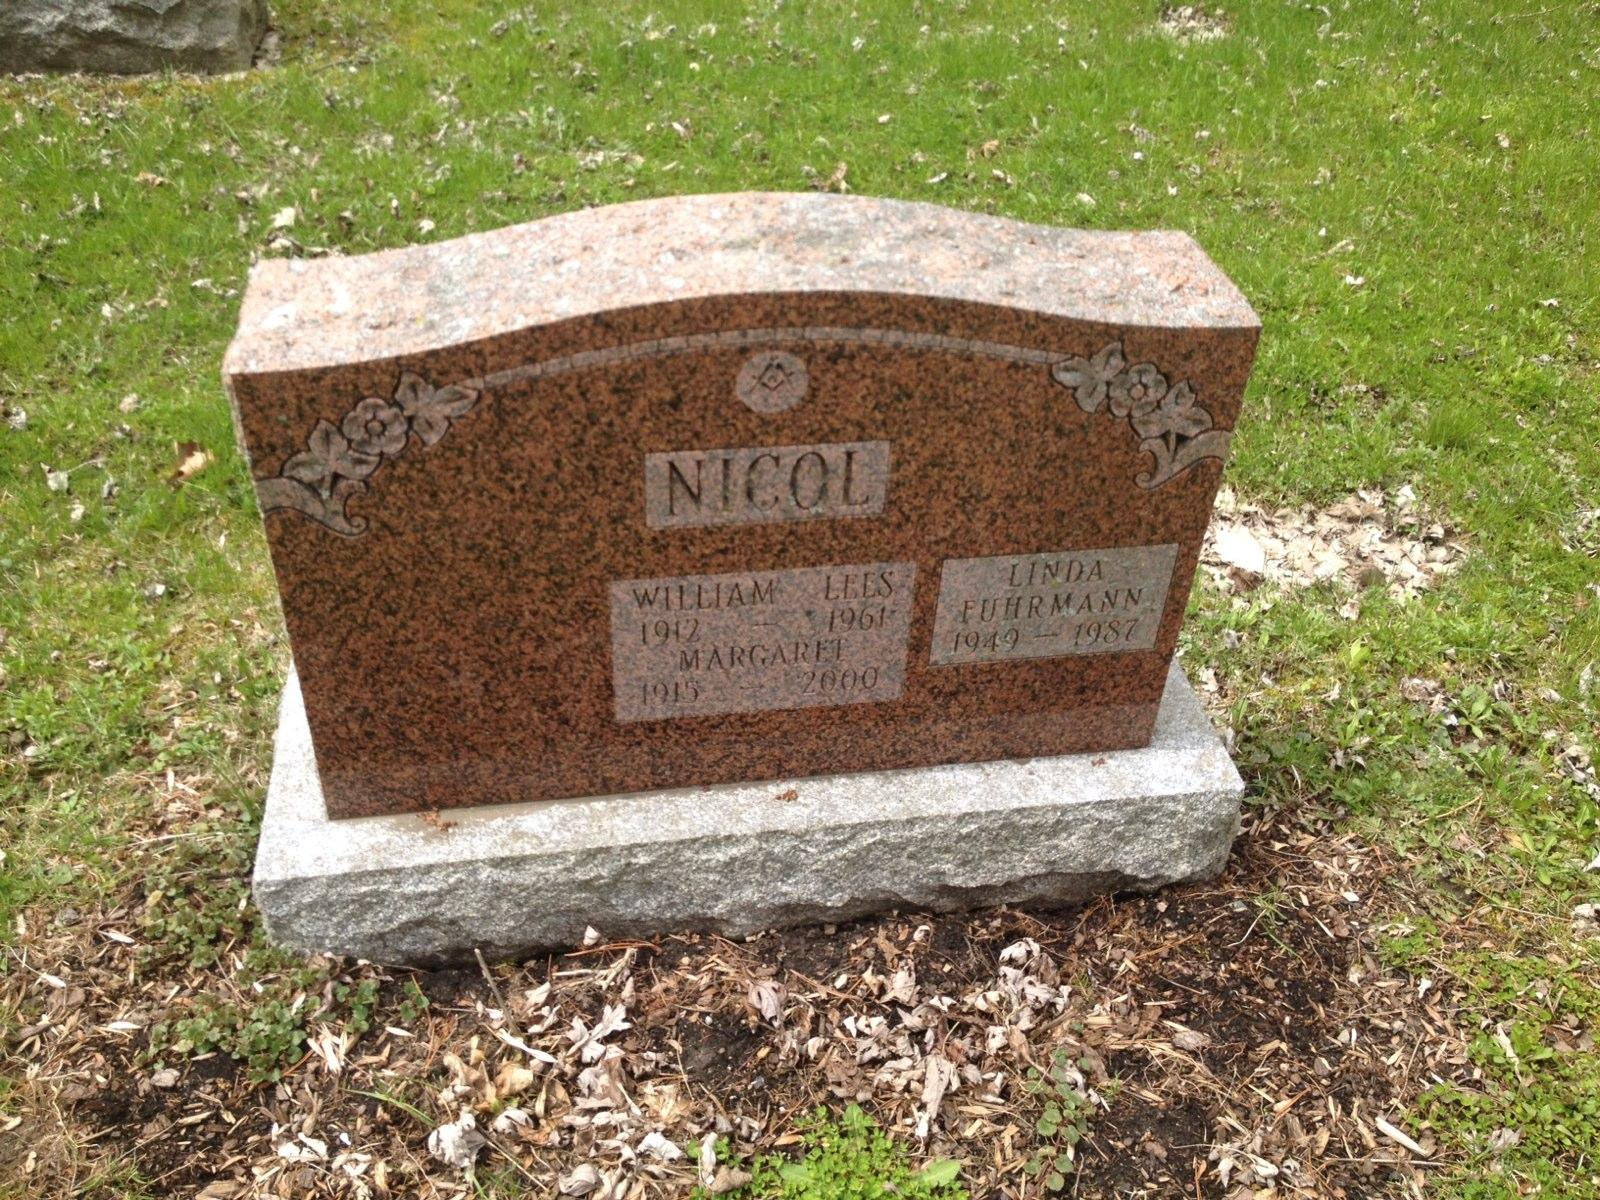upright: (203, 185, 1275, 934)
